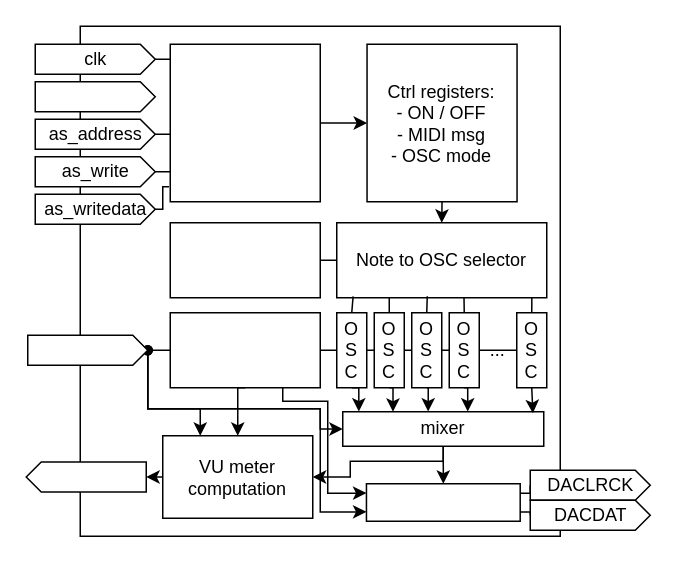
The diagram is 677 pixels wide and 563 high, and some of its shapes have lost their labels. The centre of each missing label's shape, as x and y in pixels:
"aud_clk12" belongs at point (87, 349).
"Avalon slave controller" belongs at point (244, 122).
"DAC transfer" belongs at point (442, 501).
"LEDR" belongs at point (85, 476).
"Notes lookup table" belongs at point (244, 259).
"reset_n" belongs at point (94, 96).
"Slow clock generator" belongs at point (244, 349).
